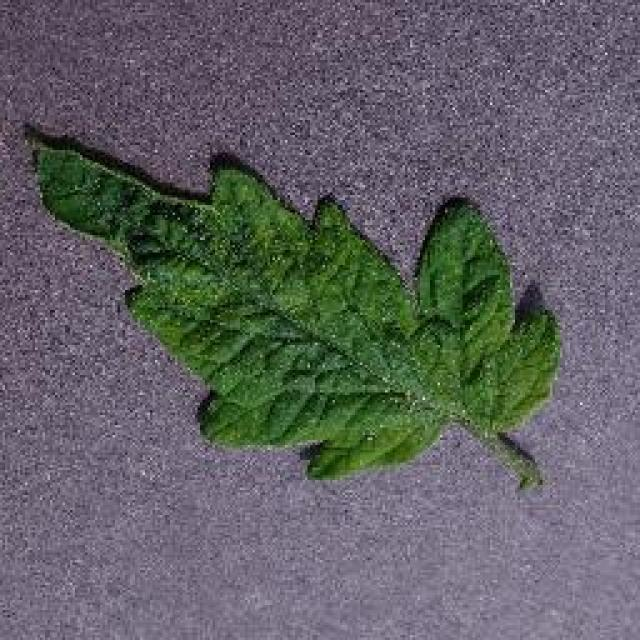Tomato spider mites leaf: (35, 137, 567, 475)
